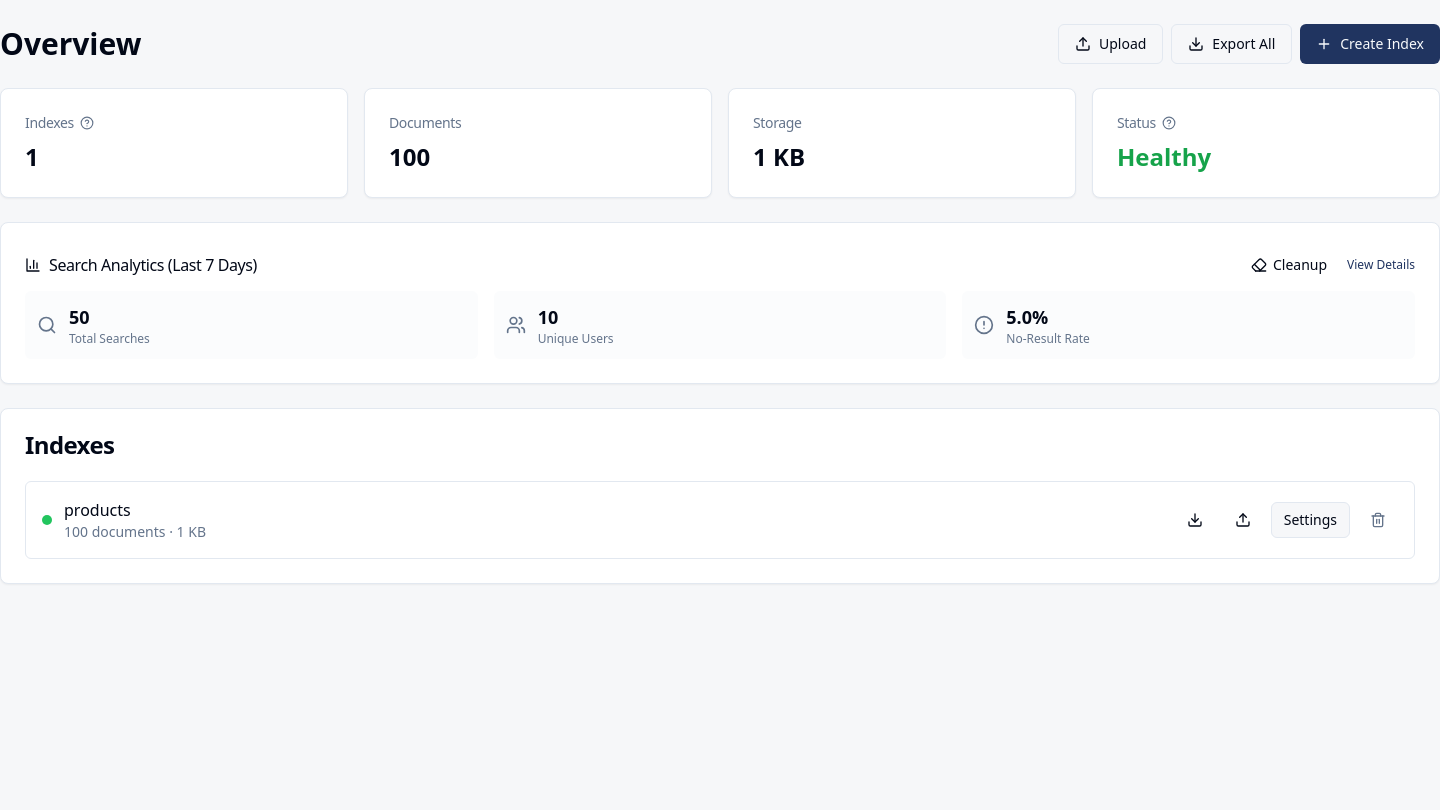
Scenario: Overview Cleanup Button › opens confirmation dialog when cleanup button is clicked
Click the button with test id "overview-cleanup-btn": (1289,265) [1239, 247, 1339, 283]
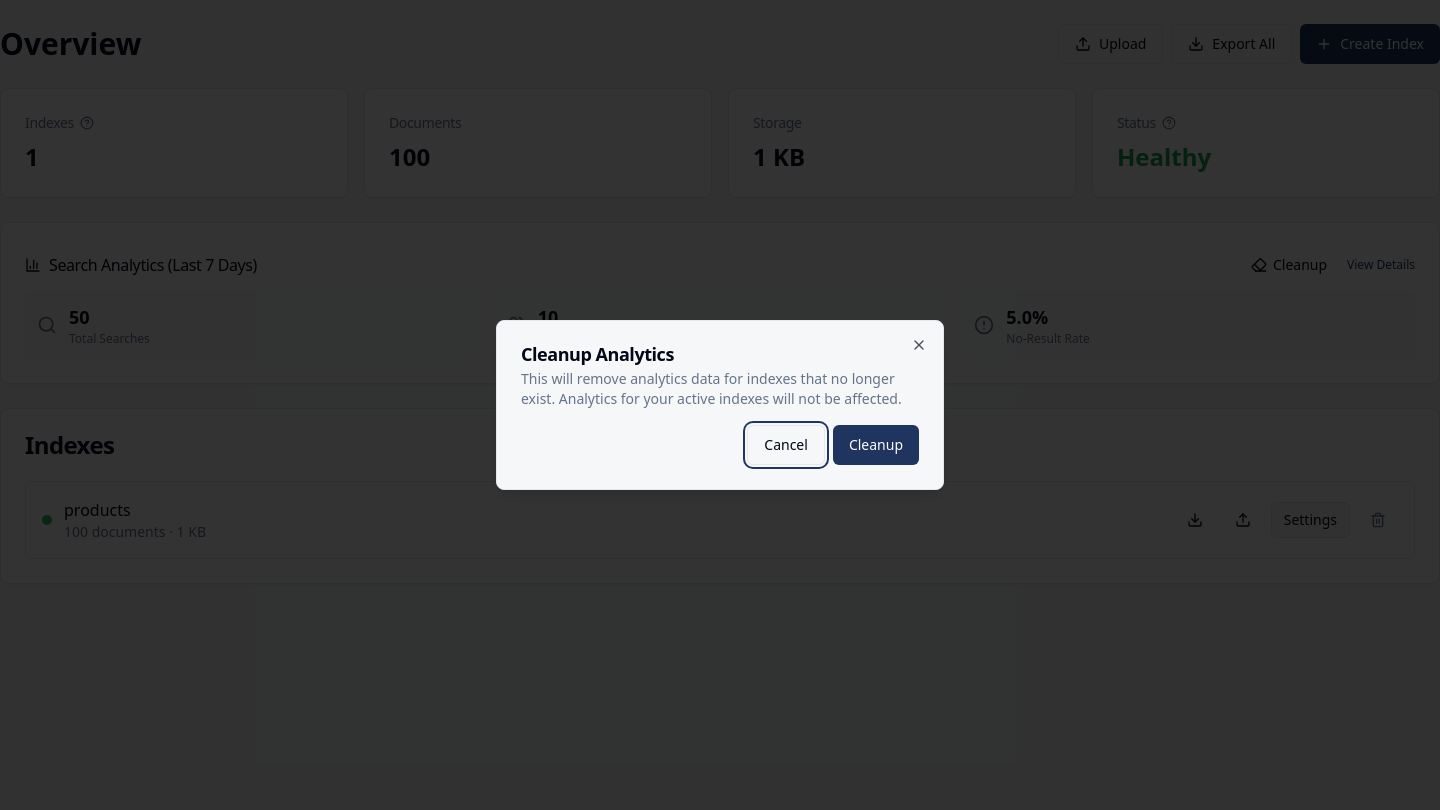
Result: the heading "Cleanup Analytics" is shown at [521, 342, 674, 366]
Result: the text "This will remove analytics data for indexes that no longer exist. Analytics for your active indexes will not be affected" is shown at [521, 369, 902, 408]
